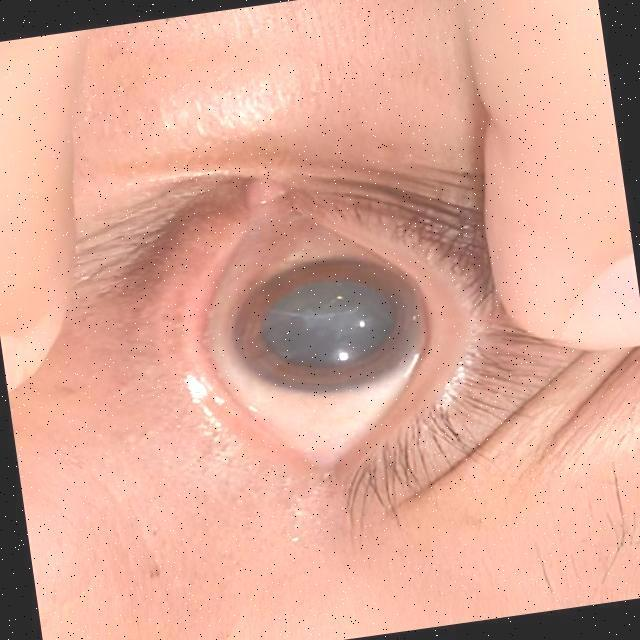Cataract: (222, 250, 426, 398)
